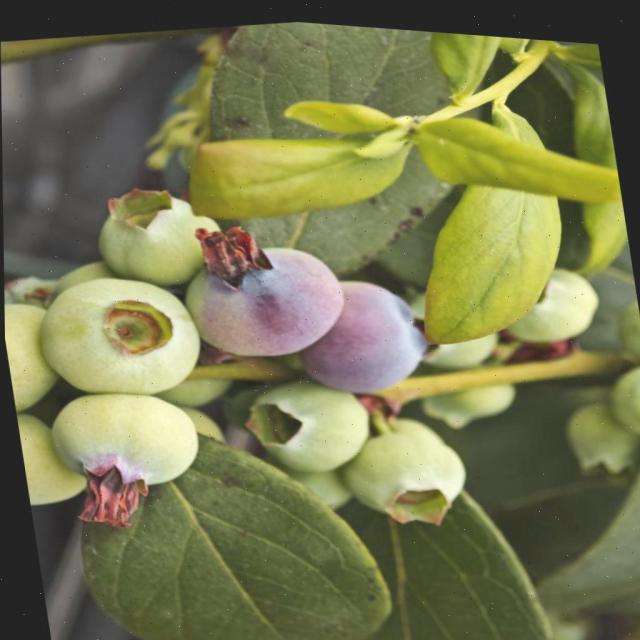Semi-RipeBlueBerry: (182, 224, 352, 364)
UnripeBlueBerry: (34, 264, 207, 404), (45, 381, 212, 500), (349, 417, 476, 525)
